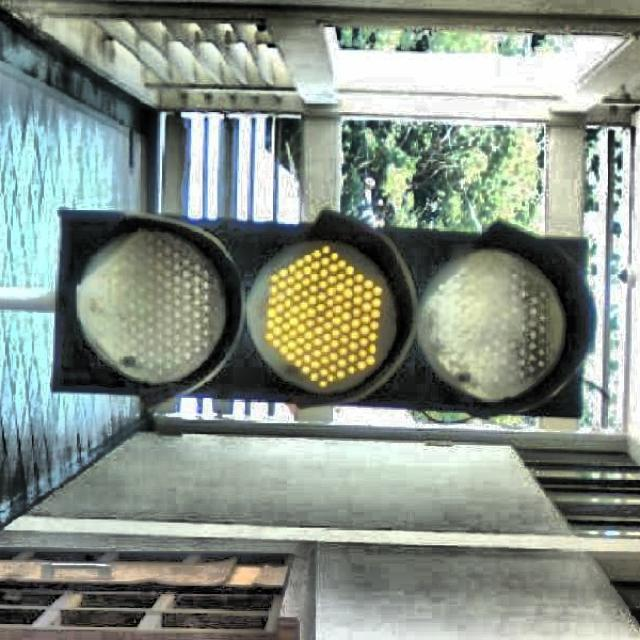yellow: (51, 220, 587, 399)
